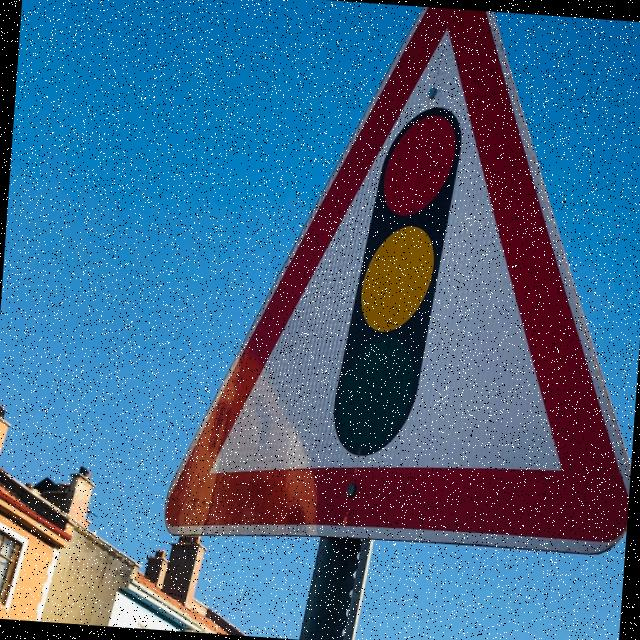light_traffic: (161, 0, 640, 567)
